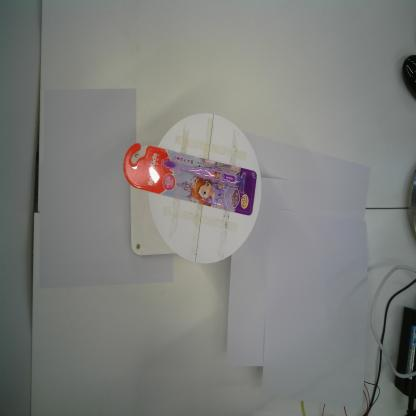Personal Hygiene: (122, 142, 257, 216)
